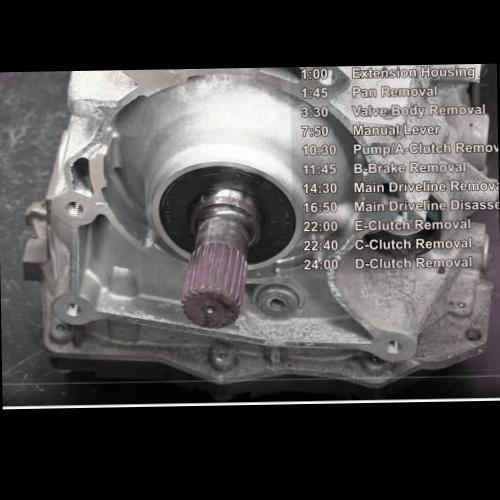hole: (61, 198, 84, 217), (384, 338, 402, 356), (65, 301, 82, 317)
